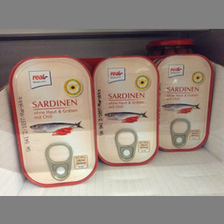fish: (9, 56, 97, 188), (93, 56, 159, 166), (155, 54, 214, 152)
